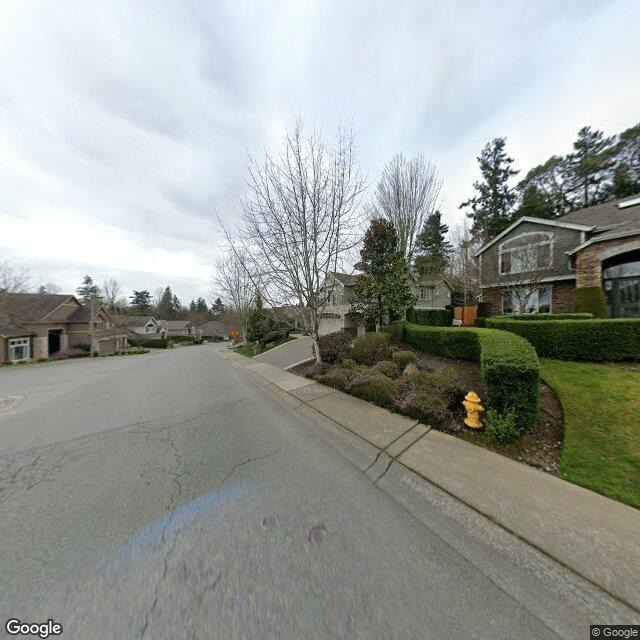hydrant: (453, 386, 489, 437)
